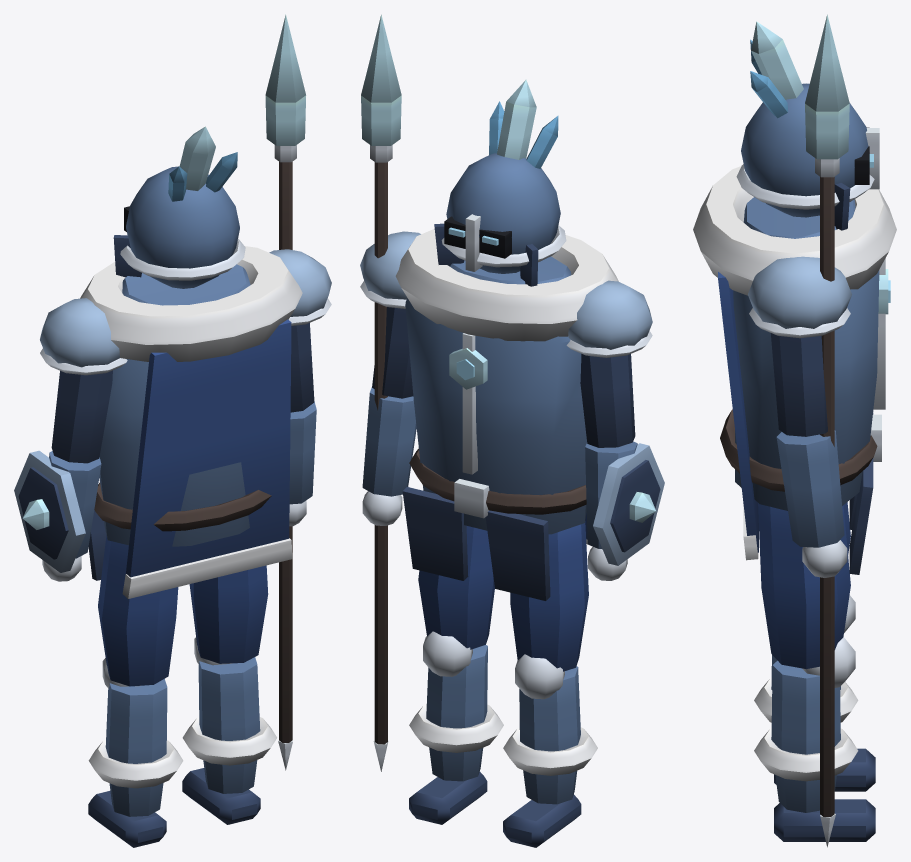
The model's file is mob_rime_sentry.fbx.
The picture shows the model from 3 angles, left to right: view 1: azimuth 30°, elevation 25°; view 2: azimuth 150°, elevation 25°; view 3: azimuth 270°, elevation 25°; orthographic projection. The views are drawn at different scales.
Visible parts, largest first — view 1: ExtraCape, Body, Head, ForearmR, KneeL, KneeR, ArmL, ForearmL, LegL, LegR, ArmR; view 2: Body, ForearmR, Head, KneeL, KneeR, ArmL, ForearmL, LegL, LegR, ArmR; view 3: Body, ForearmR, Head, KneeR, ArmR, LegR, ExtraCape, KneeL.
Part boxes in pixels (box(x1,y1,x2,y2)): ExtraCape: box(122, 319, 292, 598); Body: box(80, 246, 302, 580); Head: box(113, 126, 245, 288); ForearmR: box(265, 14, 316, 770); KneeL: box(88, 658, 183, 847); KneeR: box(182, 637, 276, 824); ArmL: box(40, 298, 127, 463); ForearmL: box(14, 450, 101, 581); LegL: box(98, 535, 178, 686); LegR: box(189, 565, 268, 663); ArmR: box(269, 249, 331, 412); Body: box(395, 229, 618, 600); ForearmR: box(361, 14, 416, 771); Head: box(434, 79, 566, 286); KneeL: box(503, 654, 597, 847); KneeR: box(409, 631, 503, 824); ArmL: box(566, 280, 652, 447); ForearmL: box(585, 441, 664, 580); LegL: box(510, 521, 588, 671); LegR: box(418, 526, 494, 649); ArmR: box(360, 231, 420, 398); Body: box(693, 166, 896, 574); ForearmR: box(776, 14, 849, 847); Head: box(736, 21, 879, 230); KneeR: box(754, 637, 875, 841); ArmR: box(748, 256, 851, 436); LegR: box(758, 503, 850, 668); ExtraCape: box(718, 272, 758, 560); KneeL: box(754, 595, 875, 791).
Bounding box in the file's own units: 303 × 760 × 164.
2 materials, 1 textured.
